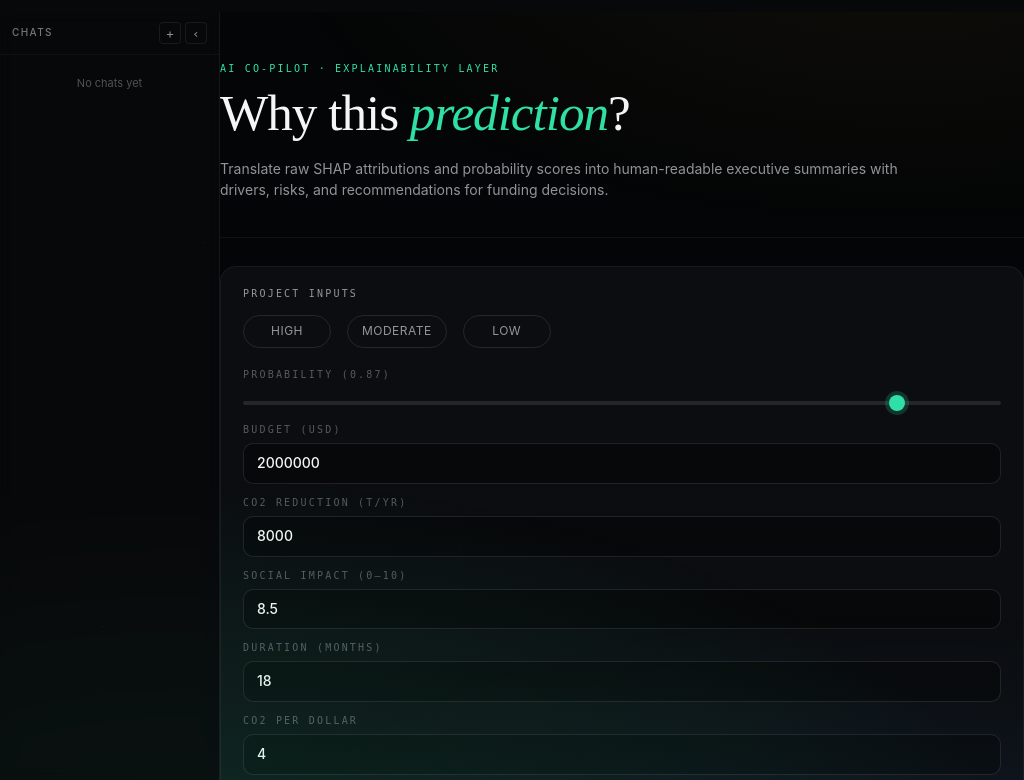
CopilotPage (production path) › the MODERATE preset sends social impact 6 to both endpoints and gets an explanation
Click the button "MODERATE" at (397, 331), box [347,315,447,348]
(page scrolled)
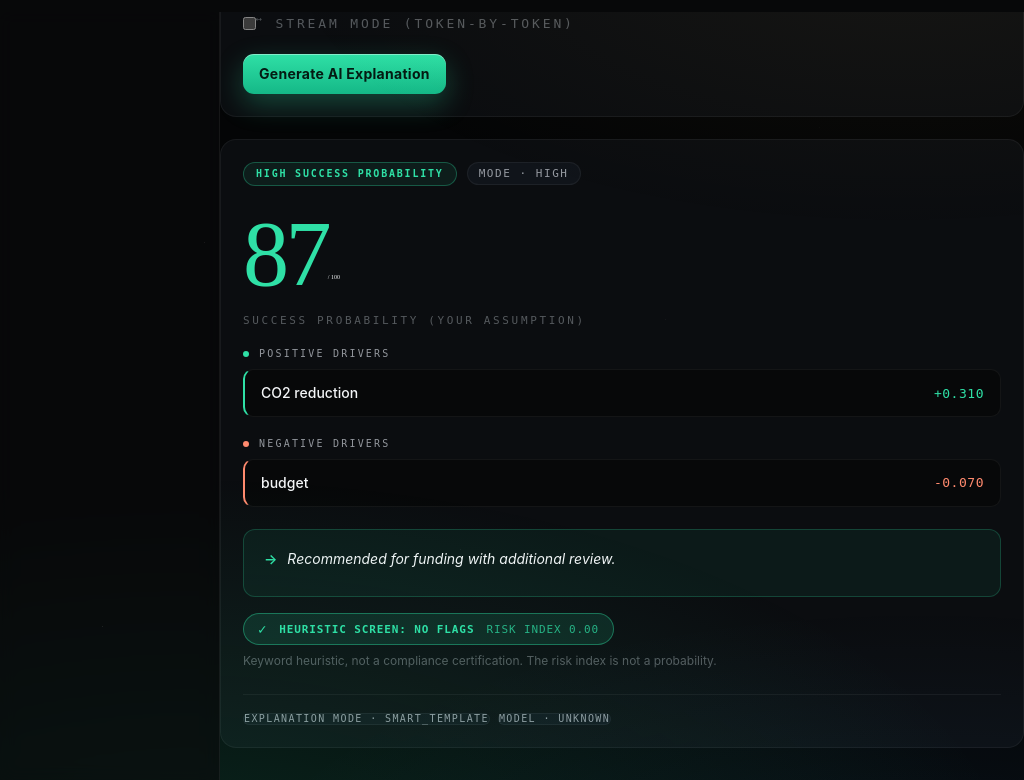
Check: the text "Recommended for funding with additional review." is shown, box [287,548,615,570]
